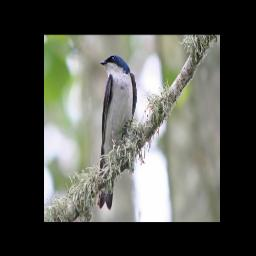Swallow: (95, 53, 138, 212)
